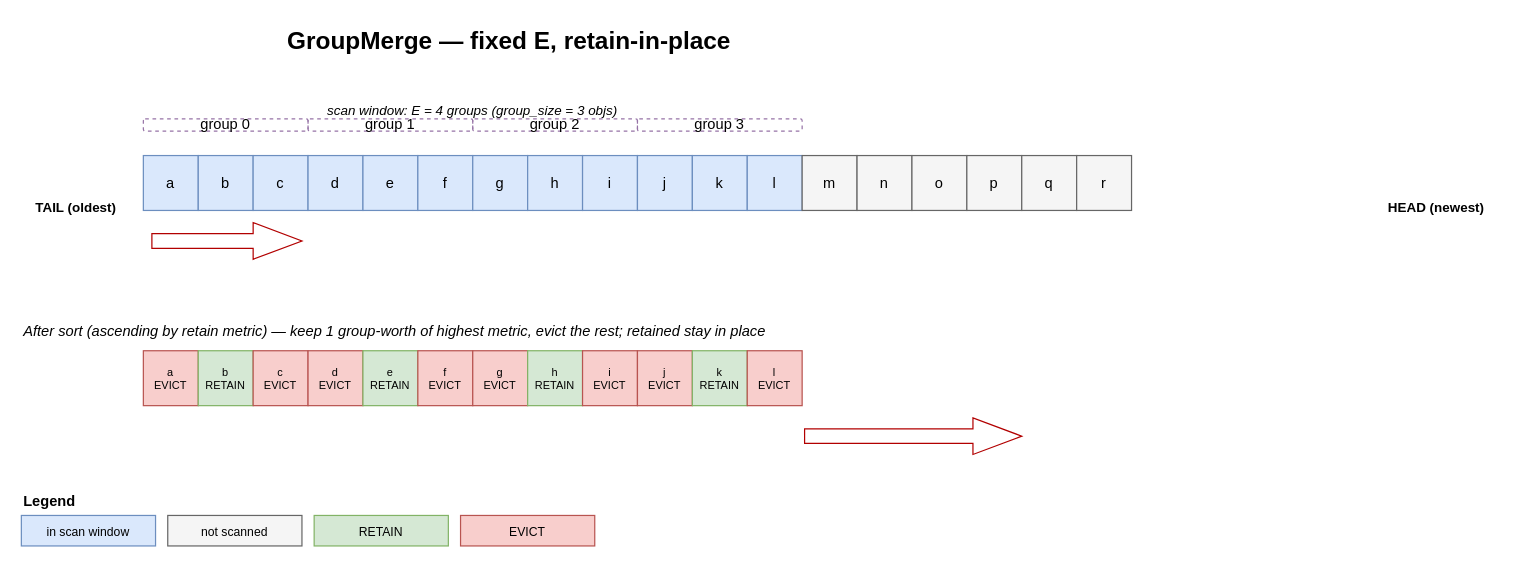
This 1519x567 diagram has some shape labels left out. Each missing label, with the box of its shape:
next_to_exam: (151, 221, 302, 259)
next_to_exam (advanced): (803, 417, 1022, 454)
